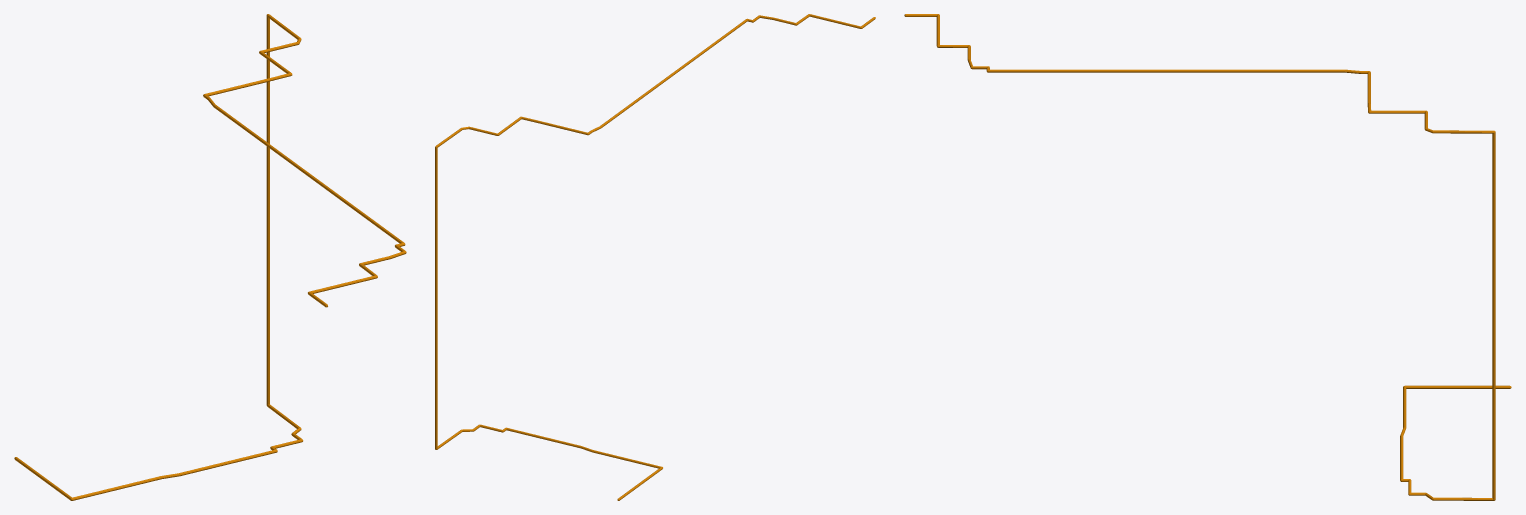
3 renders of one model, left to right at view 1: azimuth 30°, elevation 25°; view 2: azimuth 150°, elevation 25°; view 3: azimuth 270°, elevation 25°, orthographic. The views are drawn at different scales.
Size of the model in its own units: 1723 by 2520 by 3747.
